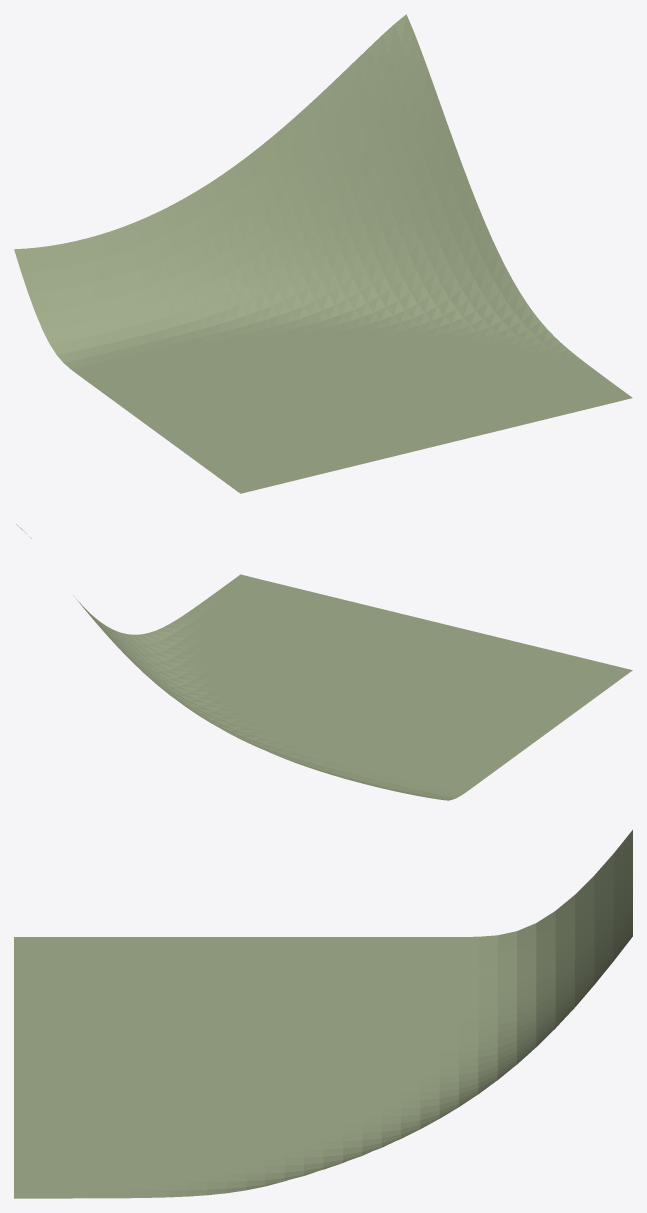
The model's file is canyon-1-0.glb.
3 renders of one model, top to bottom at view 1: azimuth 30°, elevation 25°; view 2: azimuth 150°, elevation 25°; view 3: azimuth 270°, elevation 25°, orthographic. The views are drawn at different scales.
Visible parts, largest first — view 1: canyon-1-0; view 2: canyon-1-0; view 3: canyon-1-0.
Part boxes in pixels (x1,y1,x2,y2): canyon-1-0: [14, 14, 632, 493]; canyon-1-0: [16, 524, 632, 800]; canyon-1-0: [14, 830, 632, 1198].
Bounding box in the file's own units: 128 × 67.97 × 128.
